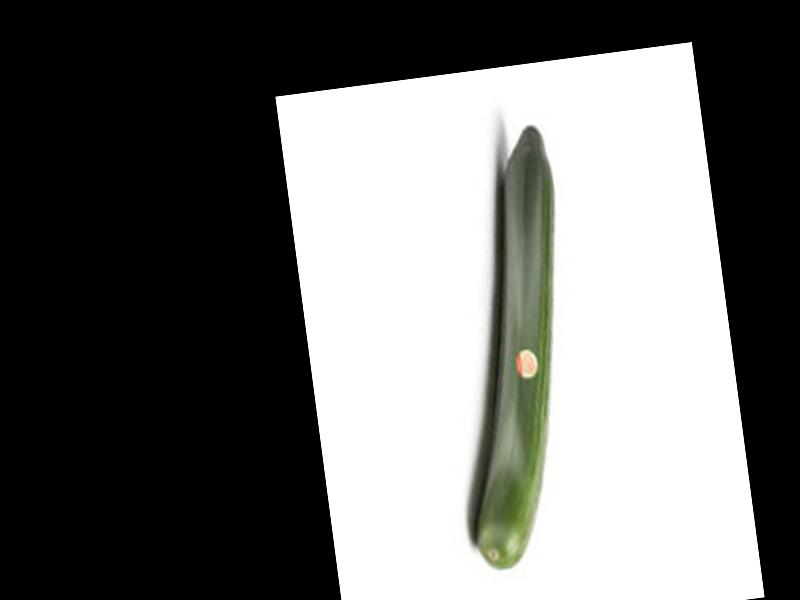Cucumber: (424, 123, 602, 575)
